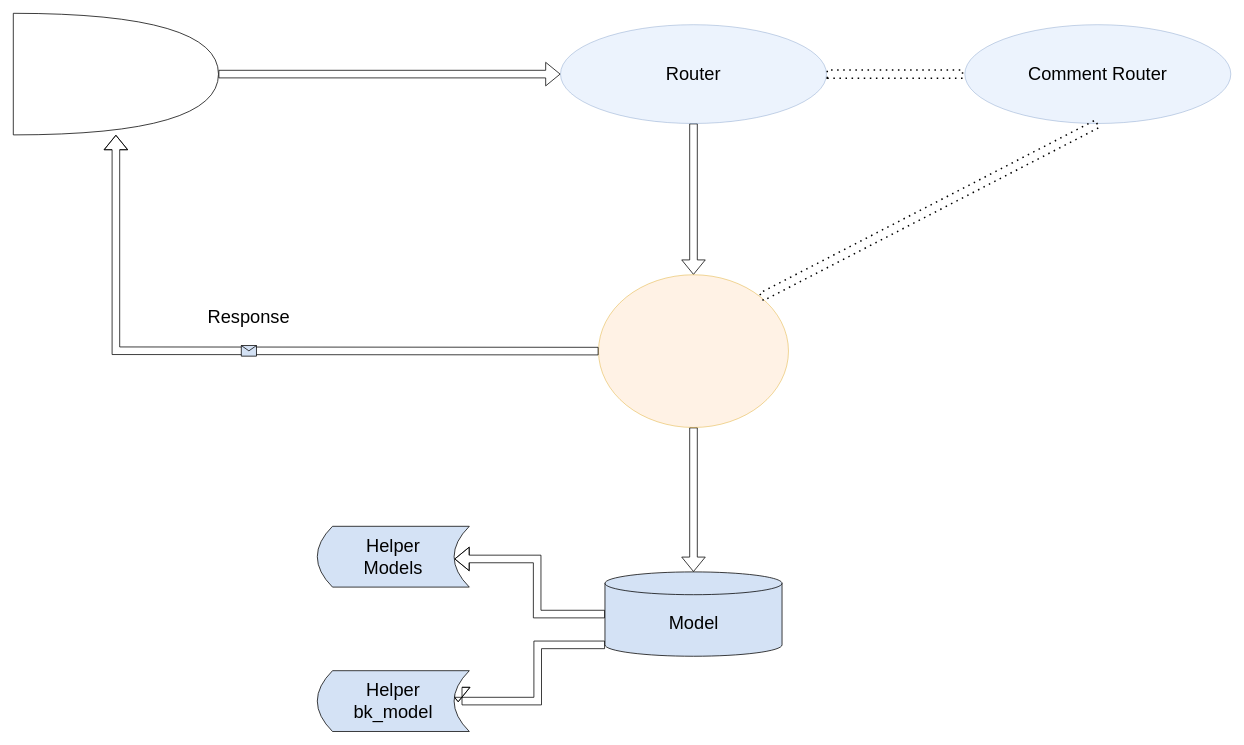
Image size: 1244x745. Some labels were removed from this diagram. The centre of each missing label's shape, as x and y in pixels:
"Controller" goes at point (693, 351).
"Request" goes at point (115, 74).
